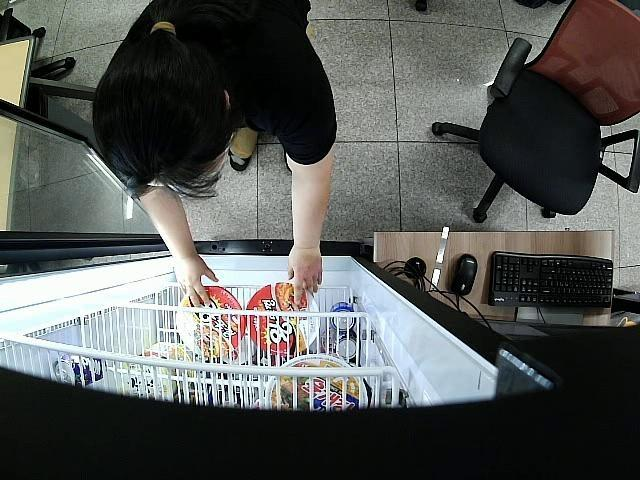10_wangTtukkeong: (176, 286, 247, 356), (250, 282, 318, 353)
